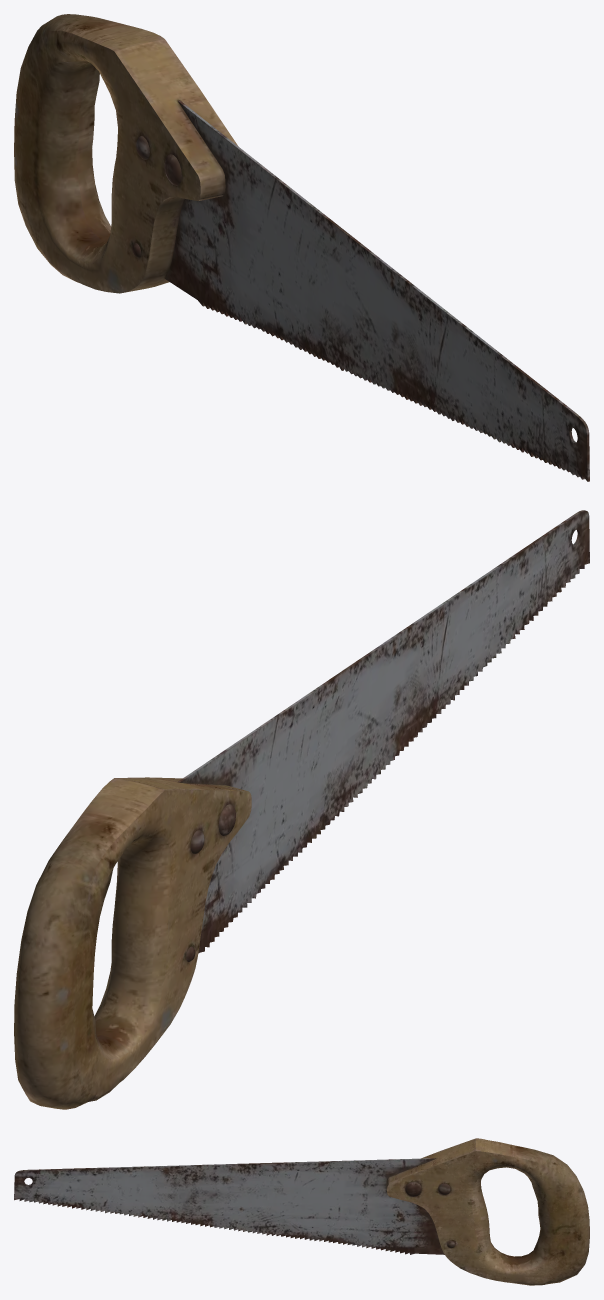
Rendered from handsaw_wood.glb.
3 views of the same model, one above another, from view 1: azimuth 30°, elevation 25°; view 2: azimuth 150°, elevation 25°; view 3: azimuth 270°, elevation 25° (orthographic). The views are drawn at different scales.
Visible parts, largest first — view 1: handsaw_wood; view 2: handsaw_wood; view 3: handsaw_wood.
Part boxes in pixels (x1,y1,x2,y2): handsaw_wood: [14, 14, 589, 481]; handsaw_wood: [14, 510, 589, 1109]; handsaw_wood: [14, 1138, 589, 1285].
Bounding box in the file's own units: 0.0408 × 0.1665 × 0.633.
1 material, 1 textured.
